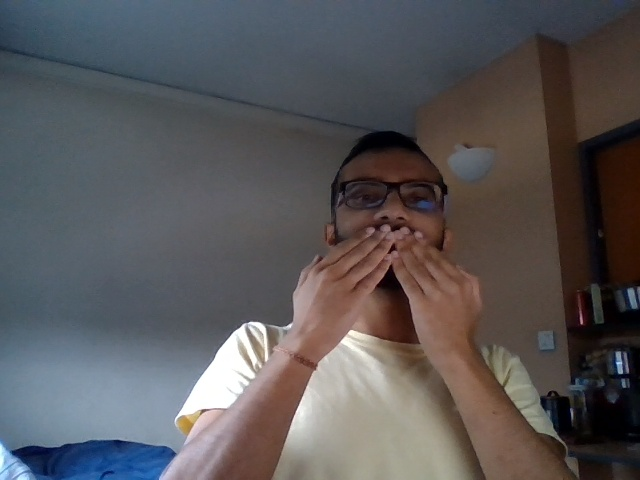Thanks: (262, 221, 494, 354)
